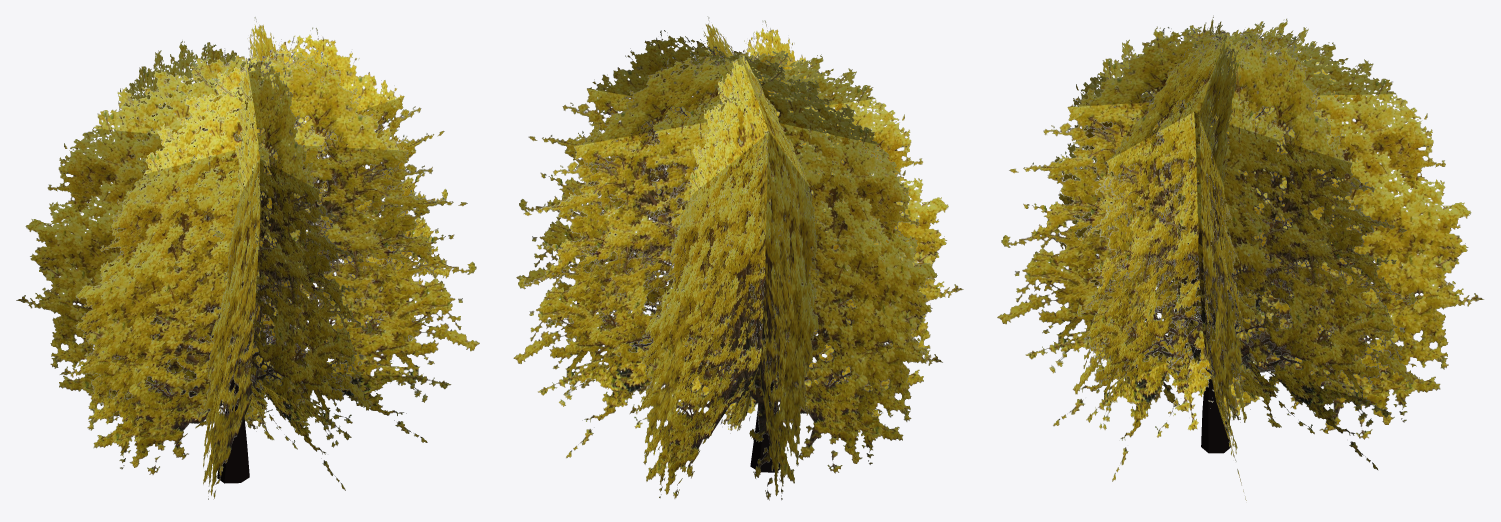
Rendered from Arbustoamarelo2.fbx.
3 renders of one model, left to right at view 1: azimuth 30°, elevation 25°; view 2: azimuth 150°, elevation 25°; view 3: azimuth 270°, elevation 25°, orthographic. The views are drawn at different scales.
Parts seen in each view (by area): view 1: arbustoamarelo.004; view 2: arbustoamarelo.004; view 3: arbustoamarelo.004.
Part boxes in pixels (x1,y1,x2,y2): arbustoamarelo.004: (16, 17, 479, 499); arbustoamarelo.004: (513, 16, 963, 500); arbustoamarelo.004: (997, 15, 1484, 500).
Bounding box in the file's own units: 95.5 × 93.29 × 95.5.
